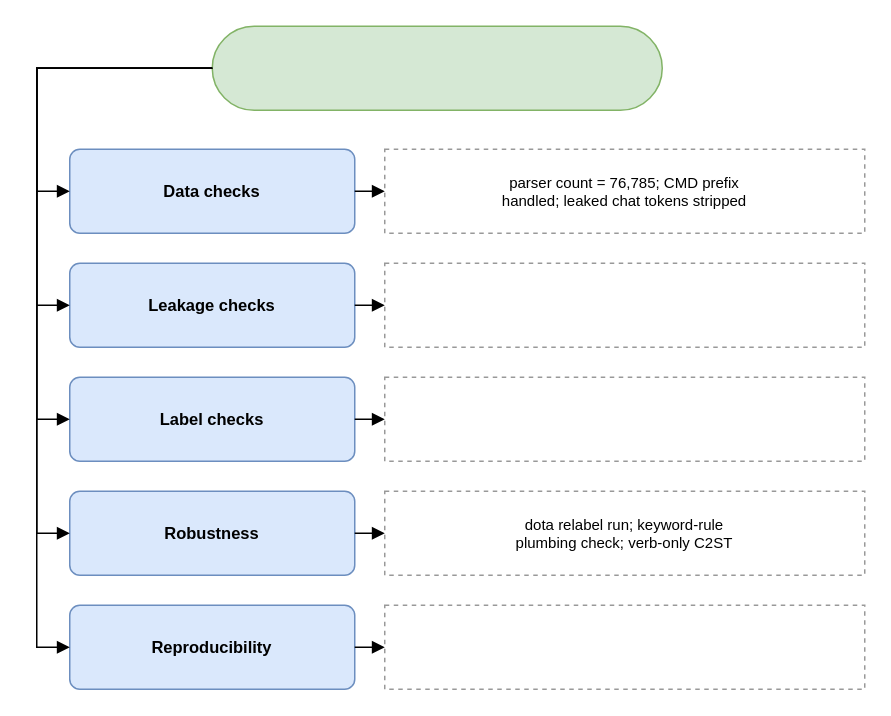
The diagram is 891 pixels wide and 716 high, and some of its shapes have lost their labels. Here are the shapes that lost their labels. From the top down, the centre of each, then its label:
(436,67): How do we know the numbers are trustworthy?
(624,304): GroupKFold by template; Q3-dedup (22); DONE token removed from sheets
(624,418): κ = 0.898 between annotators; 12 adjudicated; authors cross-verify
(624,646): fixed seed 42; scripts write results/; open repository
